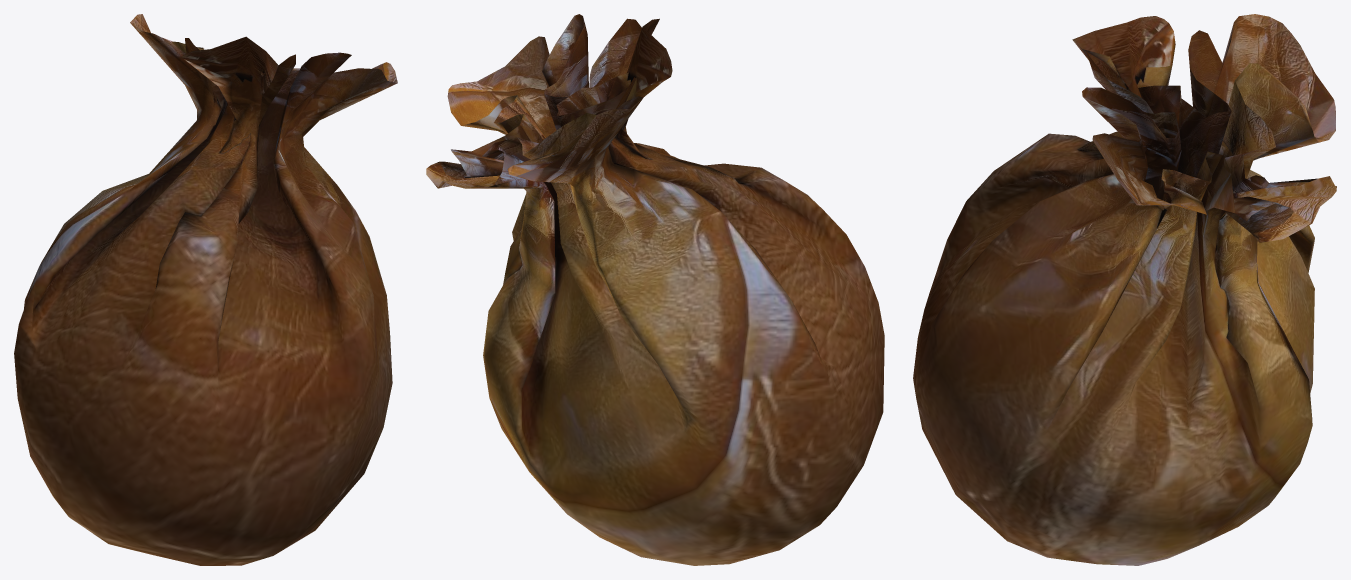
File: pouch.fbx
3 views of the same model, side by side, from view 1: azimuth 30°, elevation 25°; view 2: azimuth 150°, elevation 25°; view 3: azimuth 270°, elevation 25° (orthographic). The views are drawn at different scales.
Visible parts, largest first — view 1: Plane; view 2: Plane; view 3: Plane.
Part boxes in pixels (x1,y1,x2,y2): Plane: (14, 14, 397, 565); Plane: (426, 14, 884, 565); Plane: (913, 14, 1336, 565).
Size of the model in its own units: 43.71 by 55.34 by 38.22.
1 material, 1 textured.
